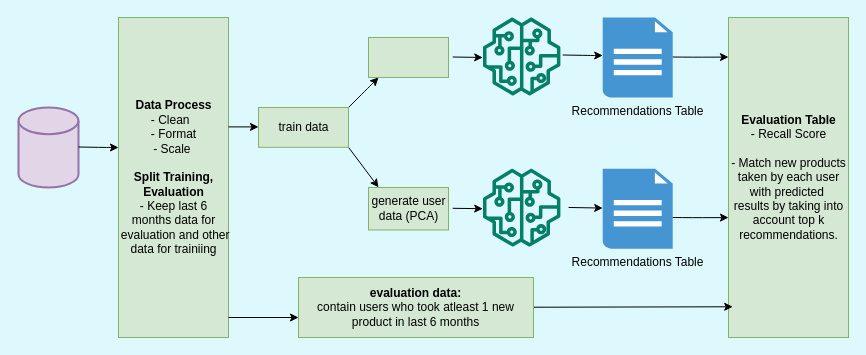
This 866x355 diagram has some shape labels left out. The centre of each missing label's shape, as x and y in pixels:
CF: point (521, 207)
generate rating data: point (408, 57)
Load Data: point (48, 147)
SVD: point (521, 56)
